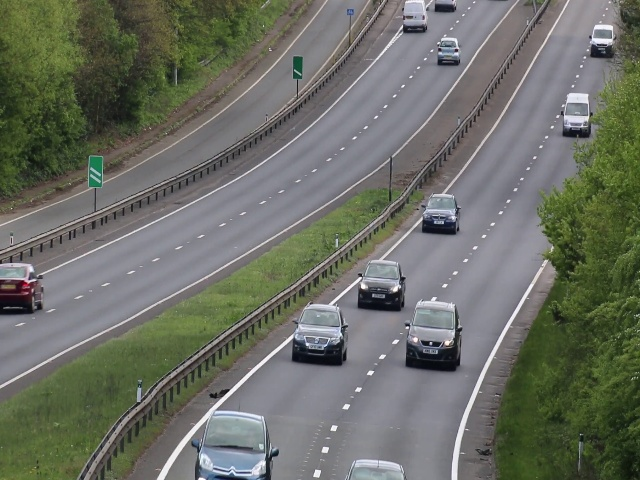car: (189, 409, 276, 480), (403, 297, 461, 371), (290, 300, 348, 367), (358, 255, 404, 312), (1, 260, 45, 314), (421, 191, 460, 235), (561, 91, 593, 139), (589, 21, 616, 58), (435, 36, 462, 66), (402, 1, 427, 33)
